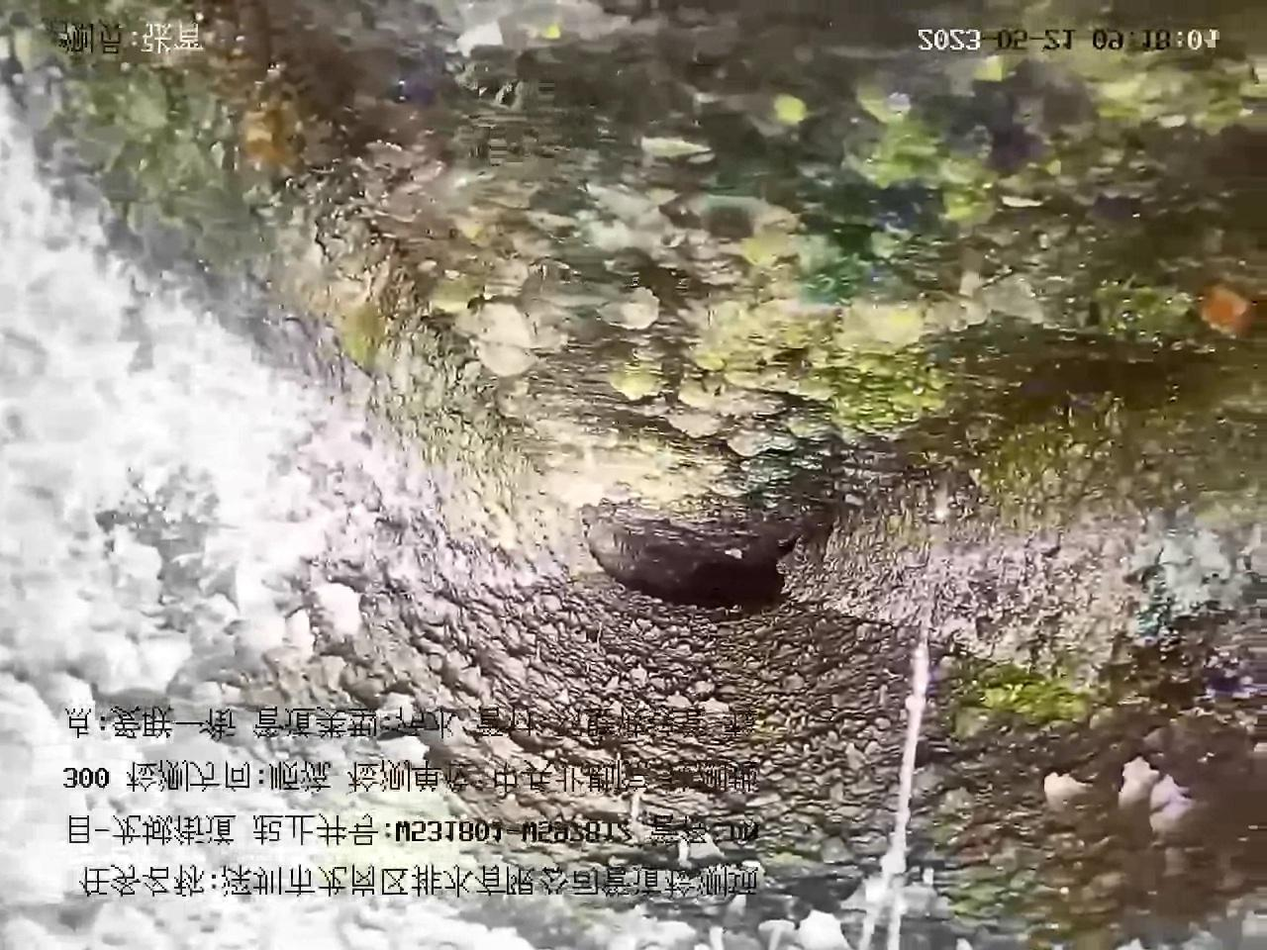CJ: (337, 1, 1266, 560)
JG: (0, 17, 1266, 950)
